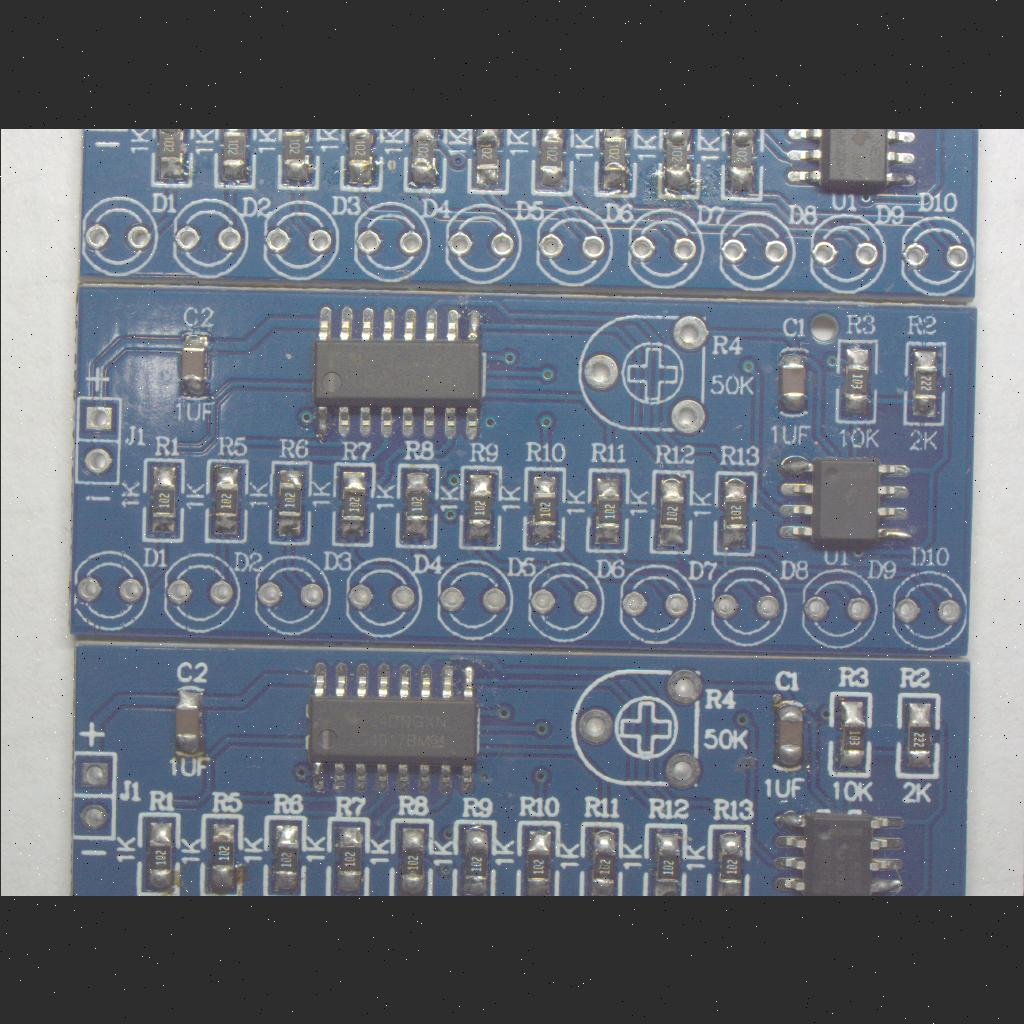OK: (298, 654, 486, 802), (308, 298, 486, 446), (770, 449, 916, 553), (764, 804, 914, 896), (778, 128, 924, 202), (454, 462, 506, 552), (892, 690, 942, 782), (328, 458, 378, 550), (709, 466, 757, 560), (647, 464, 695, 558), (824, 689, 874, 777), (584, 466, 632, 556), (519, 463, 567, 553), (202, 456, 250, 546), (832, 336, 880, 426), (140, 456, 188, 546), (392, 460, 440, 550), (266, 456, 312, 548), (900, 336, 946, 428), (510, 818, 564, 896), (195, 812, 245, 896), (134, 810, 182, 896), (385, 816, 435, 896), (638, 820, 690, 896), (260, 814, 308, 896), (448, 818, 498, 896), (576, 820, 626, 896), (717, 128, 767, 204), (324, 814, 370, 896), (704, 820, 752, 896), (526, 128, 576, 200), (654, 128, 702, 202), (590, 128, 640, 198), (334, 128, 384, 194), (400, 128, 448, 196), (464, 128, 510, 196), (772, 342, 812, 420), (210, 128, 258, 192), (274, 128, 322, 192), (769, 694, 807, 774), (147, 128, 195, 190), (170, 682, 208, 760), (176, 324, 212, 404)
